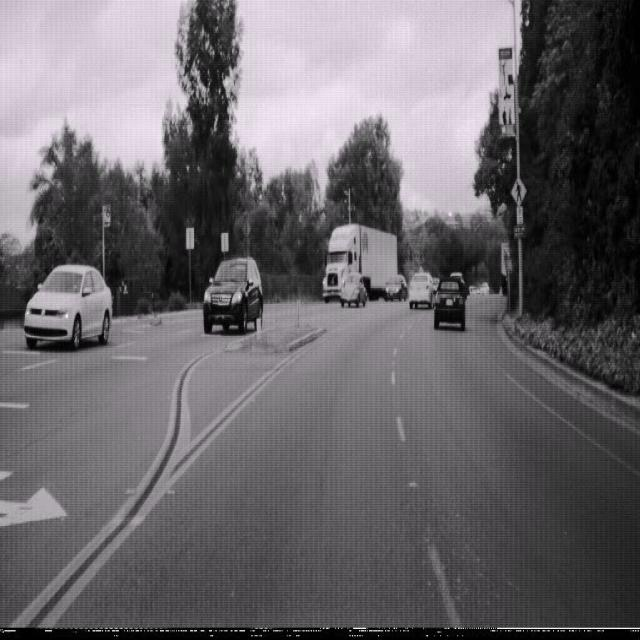pedestrianCrossing: (510, 174, 527, 207)
